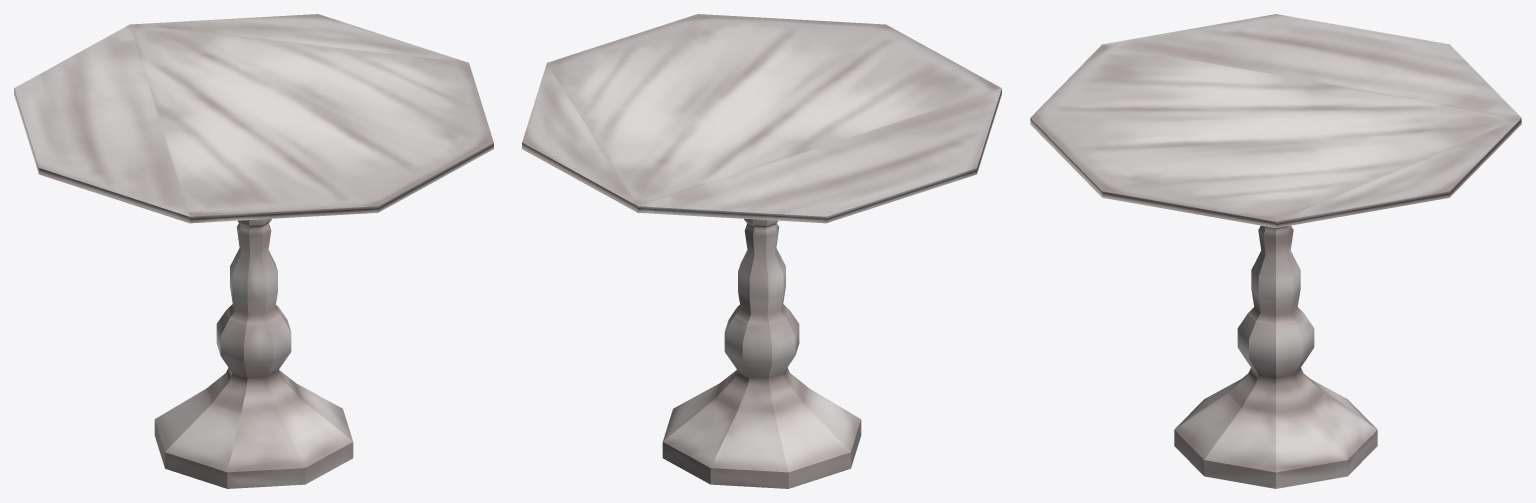
The model's file is keittiönpöytä.fbx.
The picture shows the model from 3 angles, left to right: view 1: azimuth 30°, elevation 25°; view 2: azimuth 150°, elevation 25°; view 3: azimuth 270°, elevation 25°; orthographic projection.
Parts seen in each view (by area): view 1: pCylinder1; view 2: pCylinder1; view 3: pCylinder1.
Part boxes in pixels (<box>): pCylinder1: <box>14,14,493,488</box>; pCylinder1: <box>522,14,1001,488</box>; pCylinder1: <box>1030,14,1521,488</box>.
Bounding box in the file's own units: 2 × 1.47 × 2.
